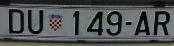-: (126, 21, 132, 26)
1: (73, 9, 80, 36)
4: (87, 10, 104, 36)
9: (106, 11, 122, 36)
A: (133, 12, 151, 36)
D: (8, 8, 24, 34)
R: (154, 11, 171, 35)
U: (28, 10, 44, 35)
